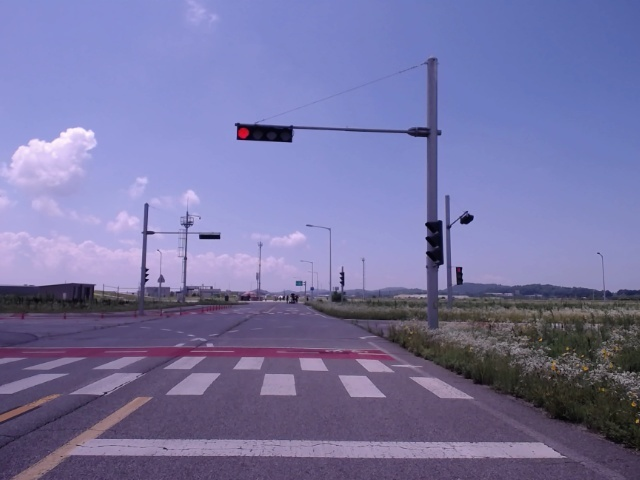red_4: (237, 124, 292, 143)
